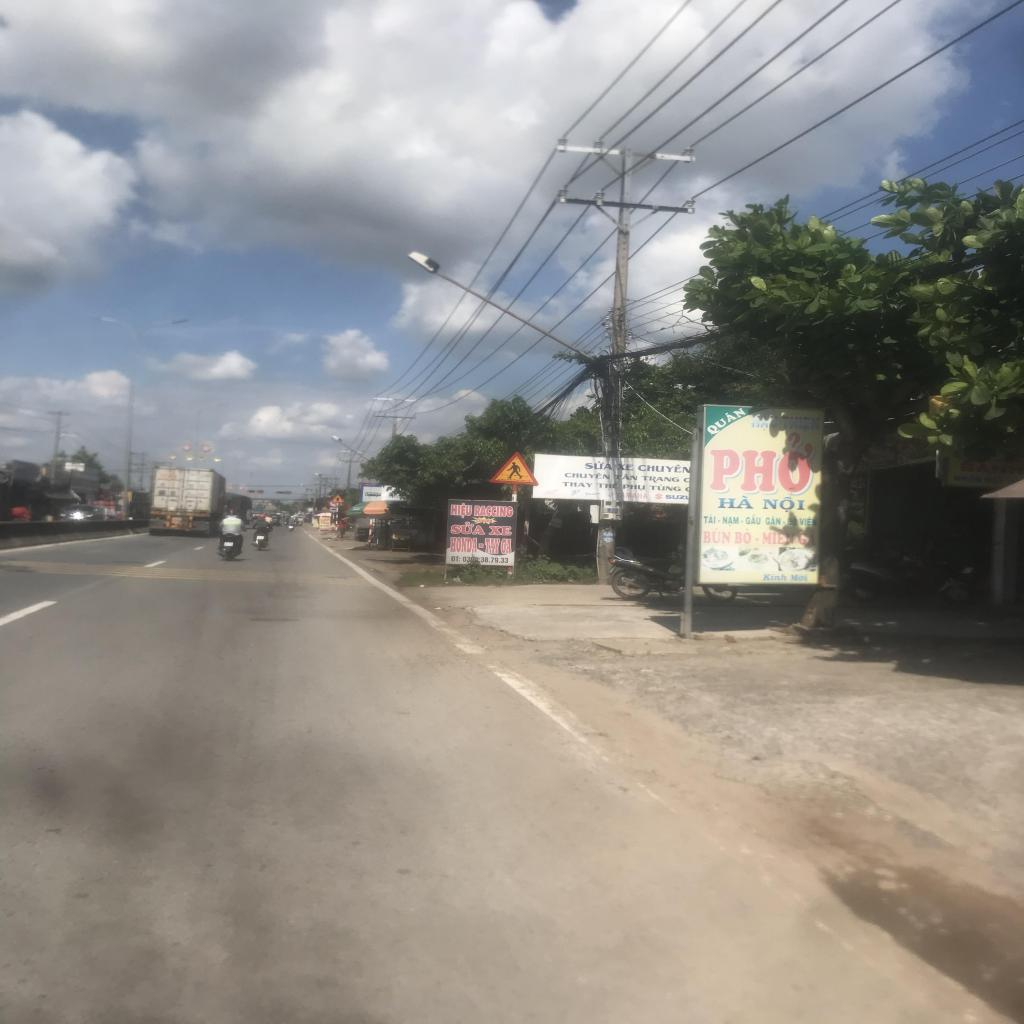cam_quay_dau_xe: (328, 499, 340, 507)
chu_y_nguoi_di_bo_cat_ngang: (488, 451, 540, 486)
giao_nhau_voi_duong_khong_uu_tien: (331, 493, 344, 503)
khac: (360, 485, 381, 504), (329, 507, 338, 512)
